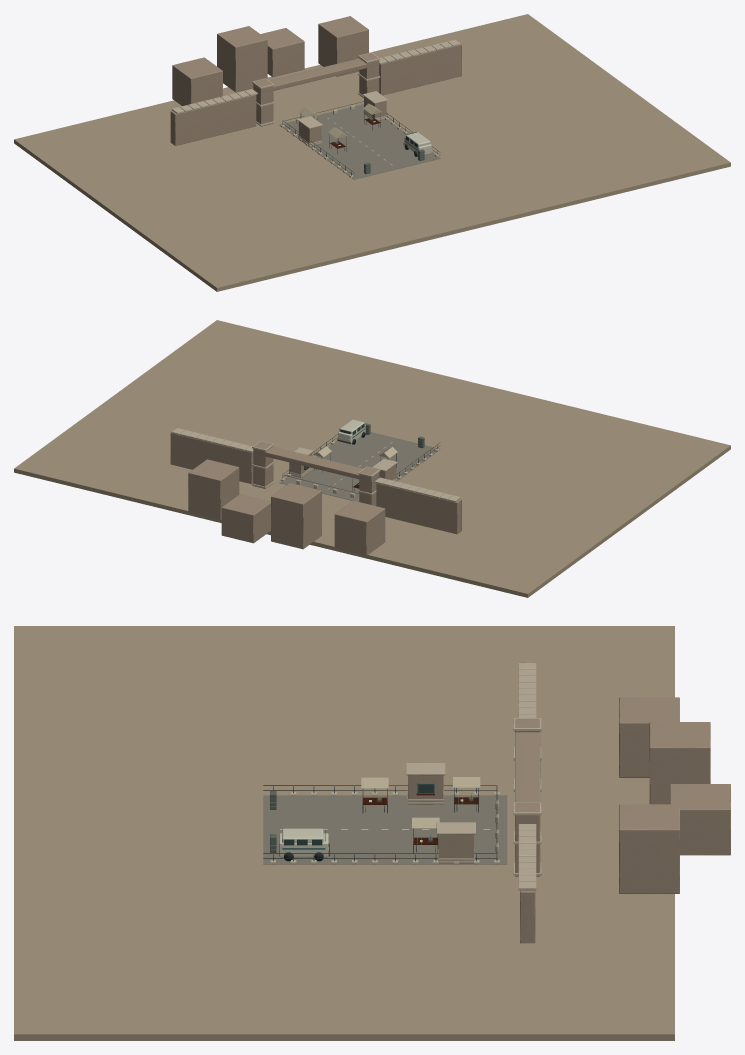
The model's file is gate-v1.glb.
3 renders of one model, top to bottom at view 1: azimuth 30°, elevation 25°; view 2: azimuth 150°, elevation 25°; view 3: azimuth 270°, elevation 25°, orthographic. The views are drawn at different scales.
Visible parts, largest first — view 1: gate / Riverbank soil, gate / Lime plaster, gate / Packed gravel, gate / Warm limestone; view 2: gate / Riverbank soil, gate / Lime plaster, gate / Packed gravel, gate / Warm limestone; view 3: gate / Riverbank soil, gate / Lime plaster, gate / Packed gravel, gate / Warm limestone, gate / Iron, gate / Light field paint, gate / Shelter canvas.
Part boxes in pixels (left/top/right/bottom): gate / Riverbank soil: left=14, top=14, right=730, bottom=291; gate / Lime plaster: left=170, top=16, right=461, bottom=146; gate / Packed gravel: left=279, top=104, right=440, bottom=179; gate / Warm limestone: left=171, top=39, right=460, bottom=177; gate / Riverbank soil: left=14, top=320, right=730, bottom=597; gate / Lime plaster: left=170, top=432, right=461, bottom=555; gate / Packed gravel: left=279, top=432, right=440, bottom=501; gate / Warm limestone: left=171, top=428, right=460, bottom=502; gate / Riverbank soil: left=14, top=626, right=674, bottom=1040; gate / Lime plaster: left=408, top=697, right=730, bottom=943; gate / Packed gravel: left=263, top=795, right=507, bottom=864; gate / Warm limestone: left=270, top=662, right=541, bottom=890; gate / Iron: left=263, top=785, right=497, bottom=861; gate / Light field paint: left=279, top=799, right=463, bottom=857; gate / Shelter canvas: left=361, top=777, right=480, bottom=828.
Bounding box in the file's own units: 95 × 8.75 × 70.5.
Materials: 13 (2 with a texture image).
